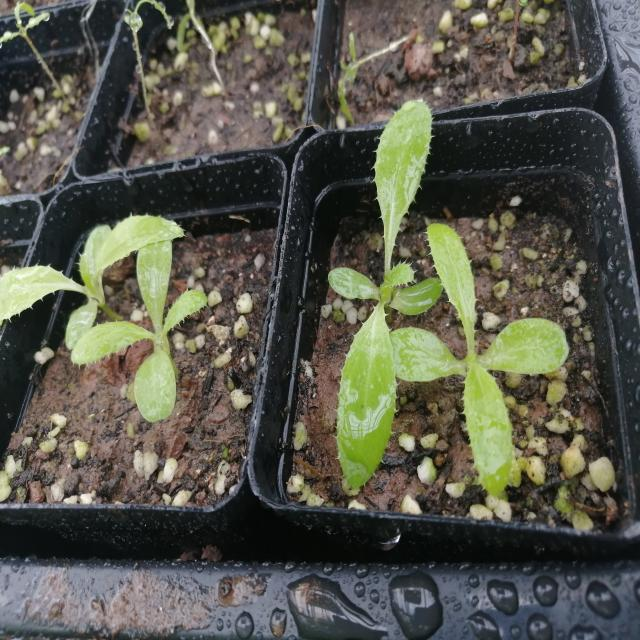field_thistle: (311, 104, 454, 461), (410, 233, 566, 496), (1, 228, 219, 396)
